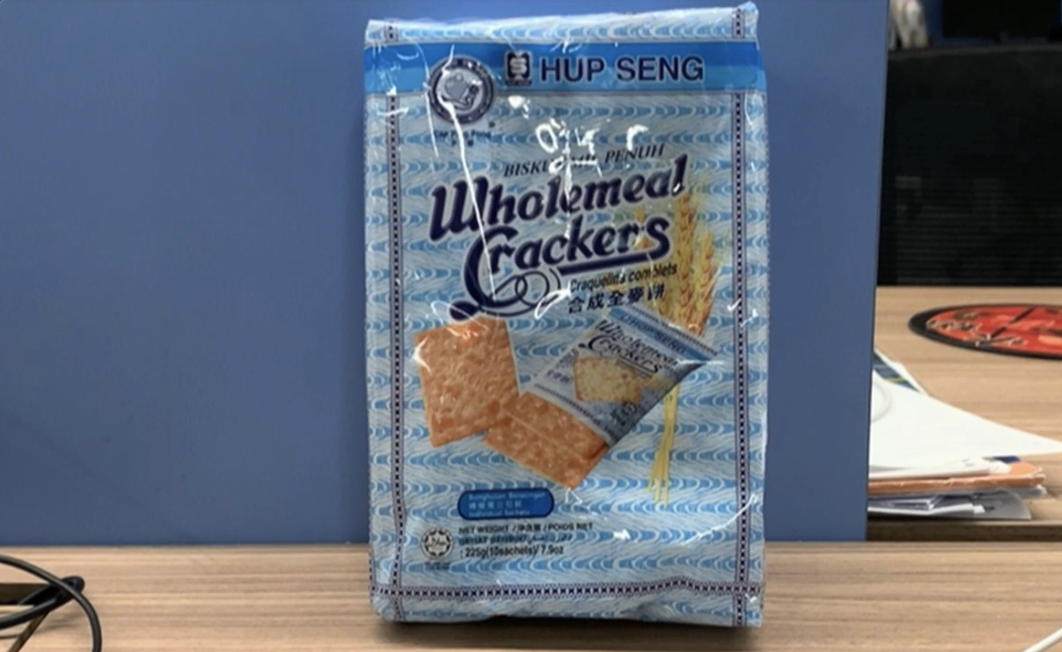crackers_200g-299g: (419, 45, 731, 591)
